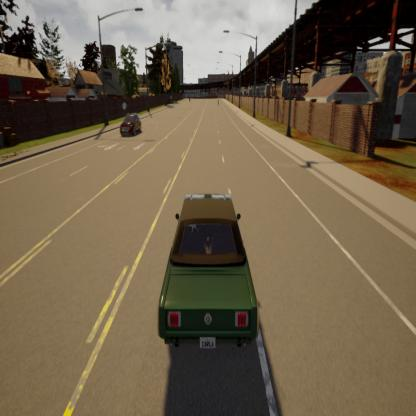Cars: (156, 186, 265, 362), (120, 109, 143, 141)
